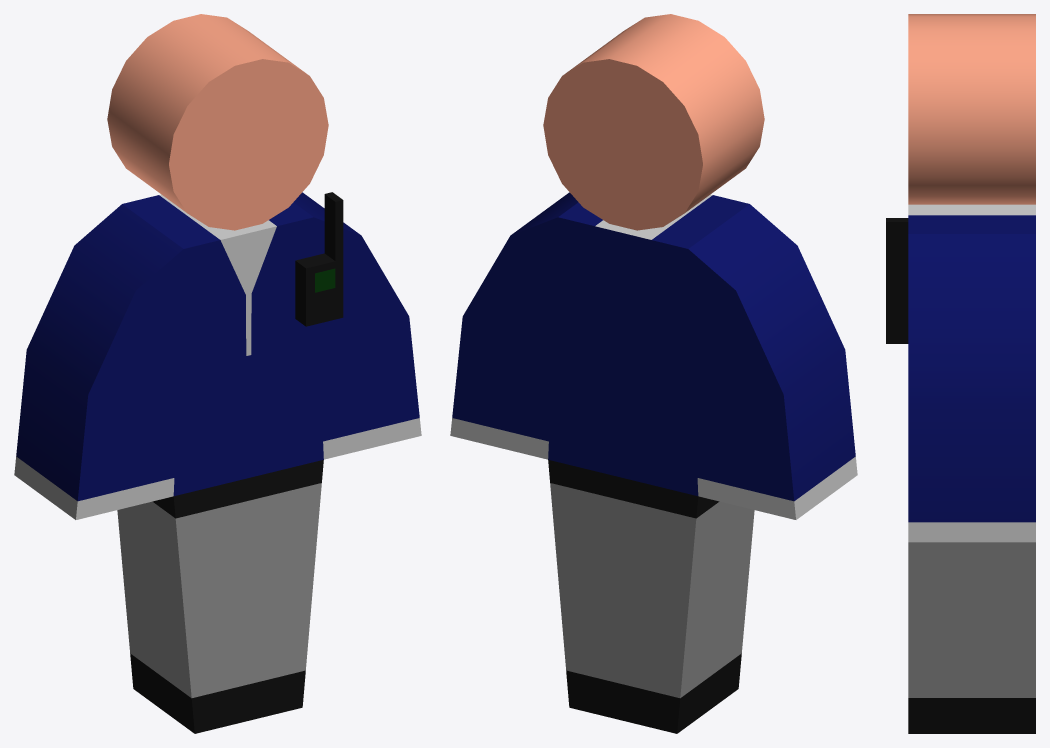
The model's file is officer.fbx.
3 views of the same model, side by side, from view 1: azimuth 30°, elevation 25°; view 2: azimuth 150°, elevation 25°; view 3: azimuth 270°, elevation 25° (orthographic). The views are drawn at different scales.
Visible parts, largest first — view 1: Box001, Cylinder001, Box002; view 2: Box001, Cylinder001; view 3: Box001, Cylinder001, Box002.
Boxes of the visible parts, box(x1,y1,x2,y2) form: Box001: box(14, 192, 421, 733); Cylinder001: box(107, 14, 328, 230); Box002: box(295, 192, 343, 326); Box001: box(450, 192, 857, 733); Cylinder001: box(543, 14, 764, 230); Box001: box(908, 204, 1035, 733); Cylinder001: box(908, 14, 1035, 204); Box002: box(886, 218, 908, 343).
Bounding box in the file's own units: 64.89 × 118 × 23.49.
